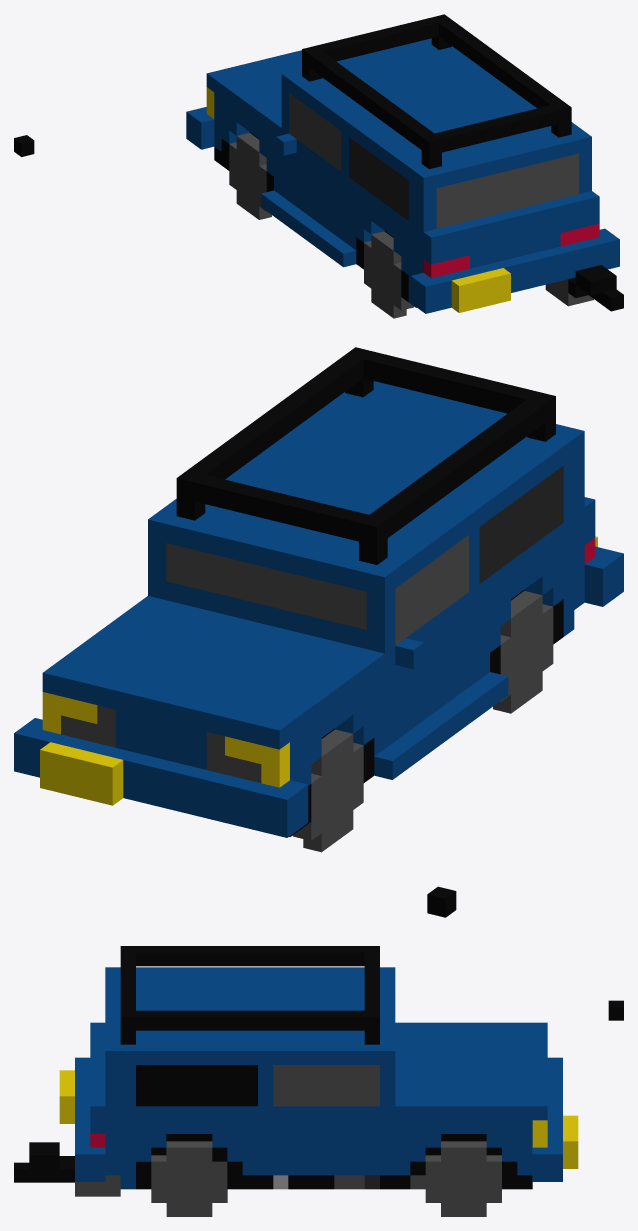
Rendered from car_11.glb.
The picture shows the model from 3 angles, top to bottom: view 1: azimuth 30°, elevation 25°; view 2: azimuth 150°, elevation 25°; view 3: azimuth 270°, elevation 25°; orthographic projection. The views are drawn at different scales.
Parts seen in each view (by area): view 1: ObjObject.006; view 2: ObjObject.006; view 3: ObjObject.006.
Boxes of the visible parts, bbox=[...] form: ObjObject.006: bbox=[14, 14, 623, 318]; ObjObject.006: bbox=[14, 347, 623, 917]; ObjObject.006: bbox=[14, 946, 623, 1216].
Size of the model in its own units: 2.6 by 1.4 by 4.
Materials: 1 (1 with a texture image).
